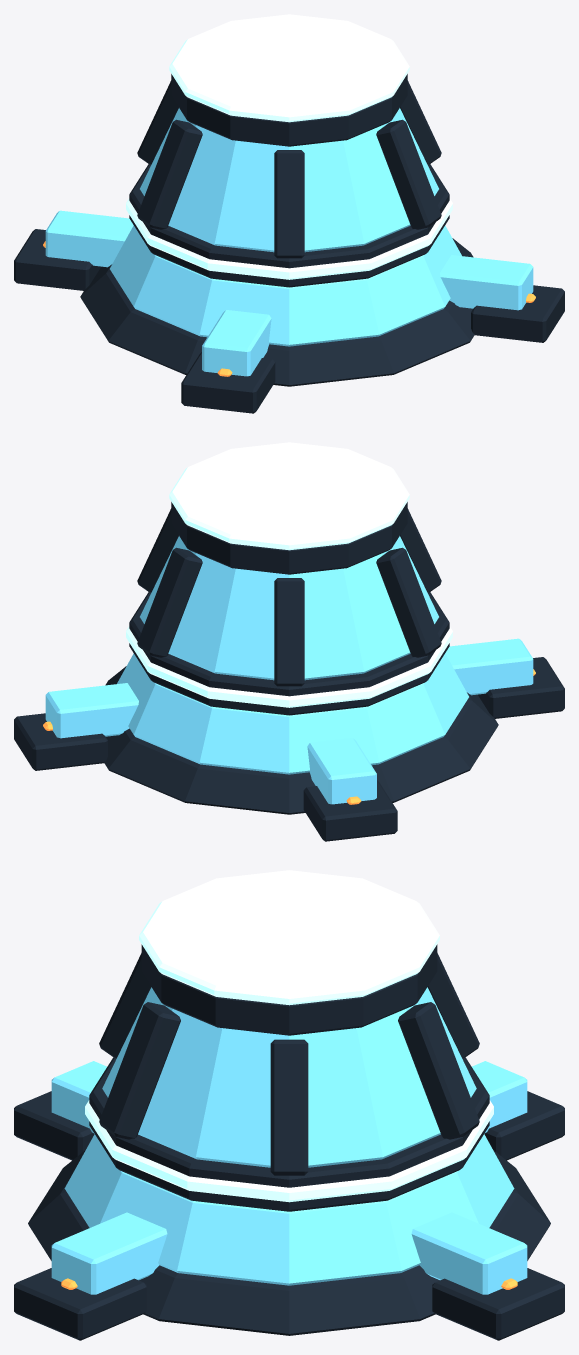
Rendered from tower_slow_base.glb.
The picture shows the model from 3 angles, top to bottom: view 1: azimuth 30°, elevation 25°; view 2: azimuth 150°, elevation 25°; view 3: azimuth 270°, elevation 25°; orthographic projection. The views are drawn at different scales.
Parts seen in each view (by area): view 1: TowerSlow_Base; view 2: TowerSlow_Base; view 3: TowerSlow_Base.
Part boxes in pixels (<box>): TowerSlow_Base: <box>14,14,564,413</box>; TowerSlow_Base: <box>14,442,564,841</box>; TowerSlow_Base: <box>14,870,564,1340</box>.
Size of the model in its own units: 0.8754 by 0.515 by 0.8754.
